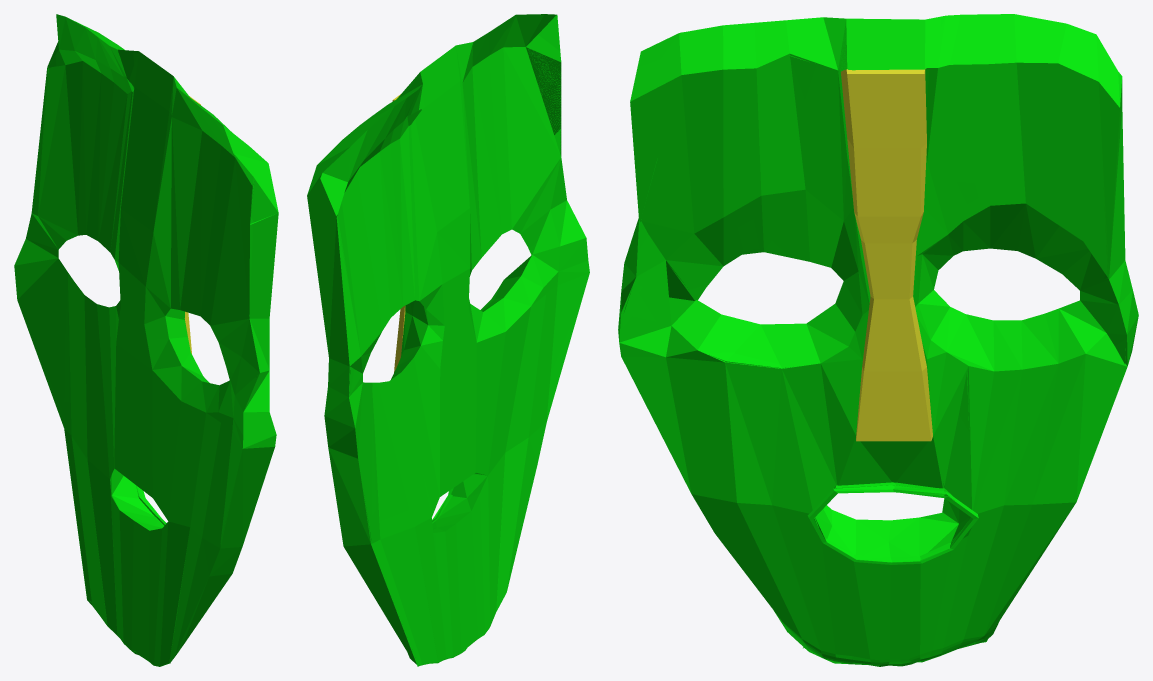
Rendered from maskplain.gltf.
3 renders of one model, left to right at view 1: azimuth 30°, elevation 25°; view 2: azimuth 150°, elevation 25°; view 3: azimuth 270°, elevation 25°, orthographic. The views are drawn at different scales.
Visible parts, largest first — view 1: maskorna; view 2: maskorna; view 3: maskorna.
Part boxes in pixels (x1,y1,x2,y2): maskorna: [14, 14, 278, 666]; maskorna: [307, 14, 589, 666]; maskorna: [618, 14, 1138, 666].
Bounding box in the file's own units: 4.68 × 43.66 × 31.3.
